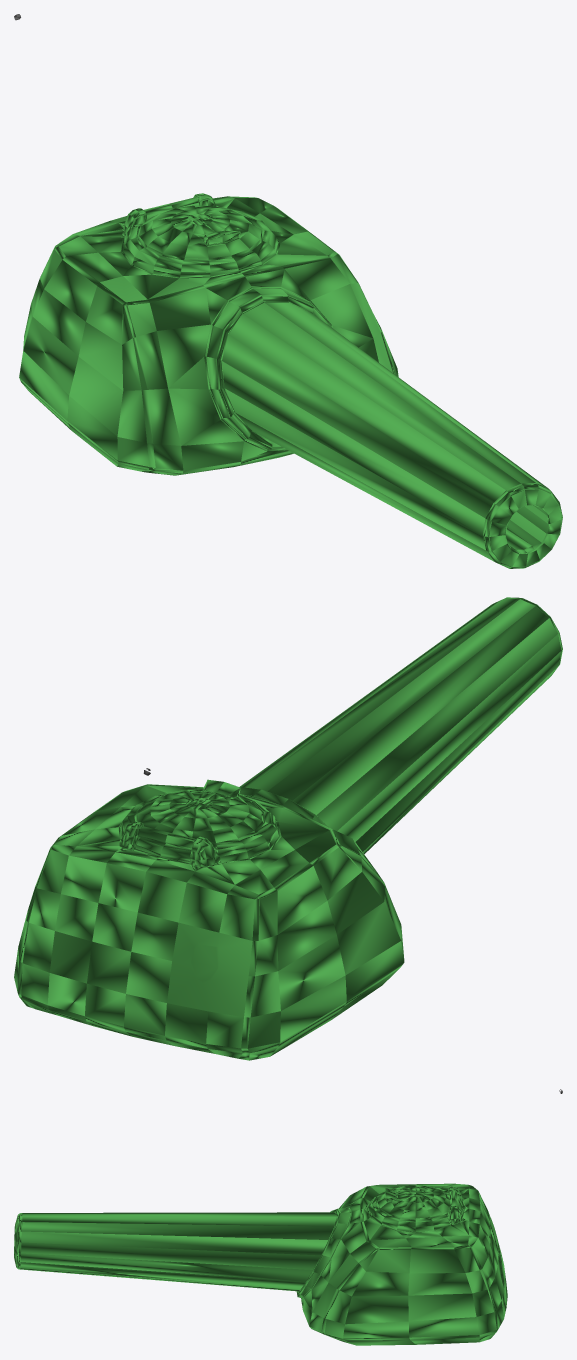
Rendered from TankTop.fbx.
3 views of the same model, one above another, from view 1: azimuth 30°, elevation 25°; view 2: azimuth 150°, elevation 25°; view 3: azimuth 270°, elevation 25° (orthographic). The views are drawn at different scales.
Visible parts, largest first — view 1: TankTurret; view 2: TankTurret; view 3: TankTurret.
Boxes of the visible parts, box(x1,y1,x2,y2) form: TankTurret: box(14, 14, 562, 568); TankTurret: box(14, 597, 562, 1060); TankTurret: box(14, 1089, 562, 1345).
Size of the model in its own units: 129 by 144 by 350.
